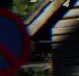No waiting: (0, 7, 38, 75)
